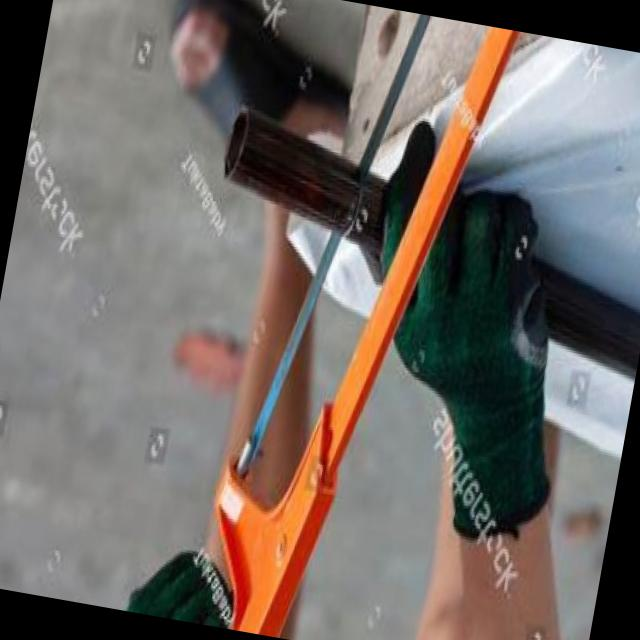gloved: (327, 118, 608, 556)
